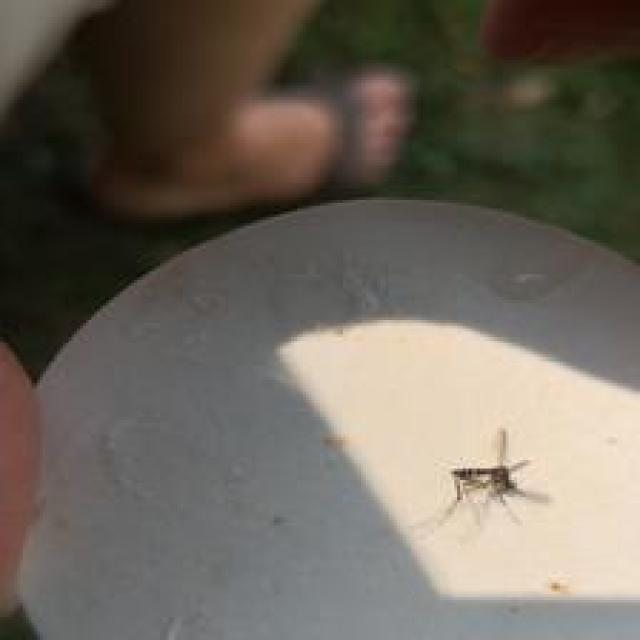Aedes albopictus: (439, 426, 547, 528)
